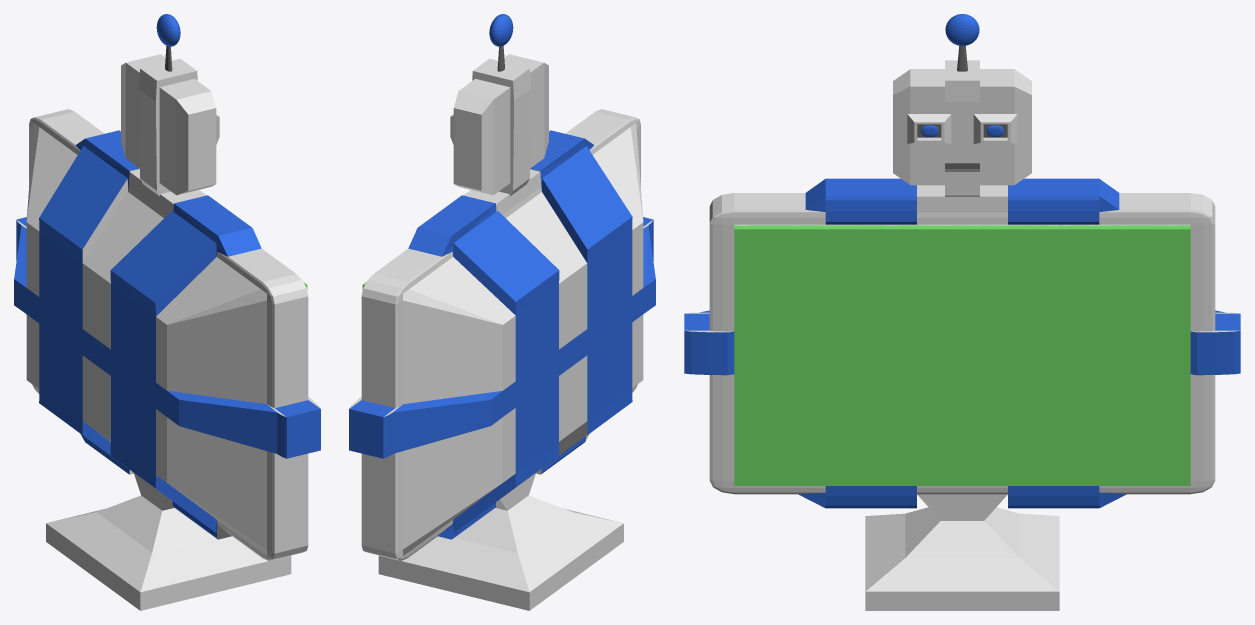
File: newRobot.glb
The picture shows the model from 3 angles, left to right: view 1: azimuth 30°, elevation 25°; view 2: azimuth 150°, elevation 25°; view 3: azimuth 270°, elevation 25°; orthographic projection. The views are drawn at different scales.
Visible parts, largest first — view 1: Robot; view 2: Robot; view 3: Robot, Screen, top left link, top right link, bottom right link, bottom left link, mid right link, mid left link.
Boxes of the visible parts, x1,y1,x2,y2 form: Robot: (14, 14, 320, 610); Robot: (349, 14, 655, 610); Robot: (684, 14, 1240, 610); Screen: (886, 225, 1038, 485); top left link: (734, 225, 886, 314); top right link: (1038, 225, 1190, 314); bottom right link: (1038, 400, 1190, 485); bottom left link: (734, 400, 886, 485); mid right link: (1038, 315, 1190, 400); mid left link: (734, 315, 886, 400).
Size of the model in its own units: 13.7 by 47.12 by 42.52.
